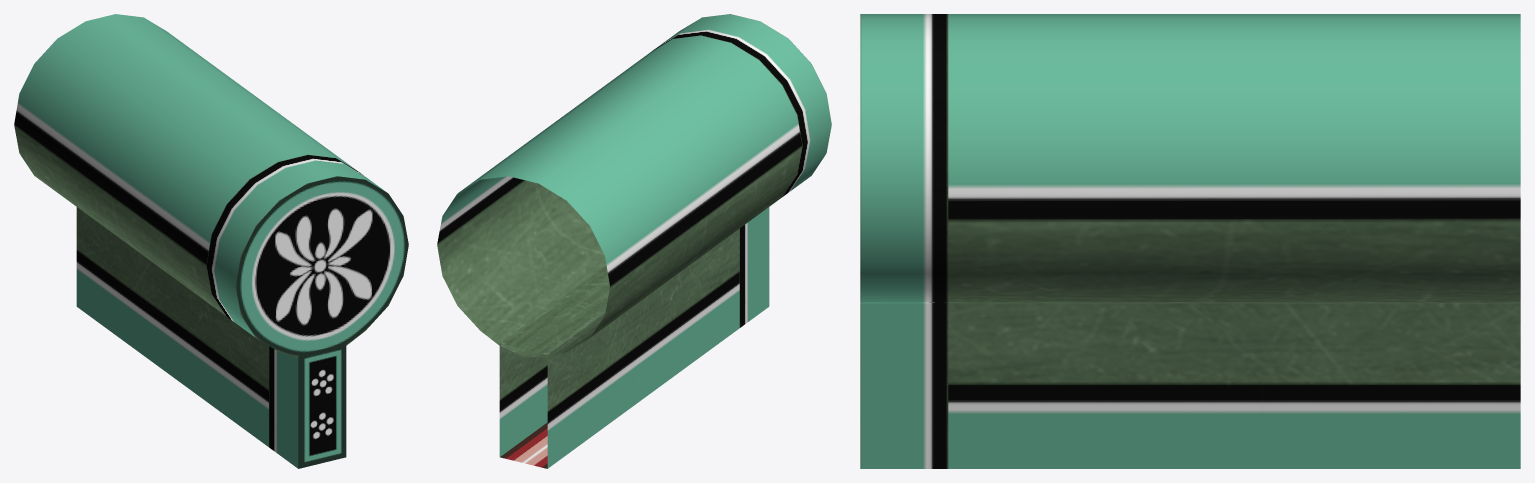
File: SM_Beam01G.fbx
The picture shows the model from 3 angles, left to right: view 1: azimuth 30°, elevation 25°; view 2: azimuth 150°, elevation 25°; view 3: azimuth 270°, elevation 25°; orthographic projection. The views are drawn at different scales.
Parts seen in each view (by area): view 1: SM_Beam01G; view 2: SM_Beam01G; view 3: SM_Beam01G.
Part boxes in pixels (bbox=[...]): SM_Beam01G: bbox=[14, 14, 408, 468]; SM_Beam01G: bbox=[437, 14, 831, 468]; SM_Beam01G: bbox=[860, 14, 1520, 468].
Size of the model in its own units: 28.53 by 63.31 by 44.62.
1 material, 1 textured.
